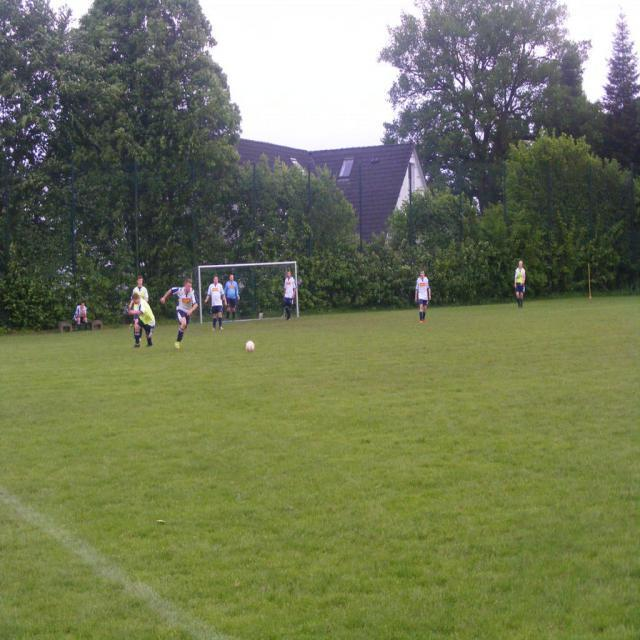ball: (245, 341, 255, 354)
